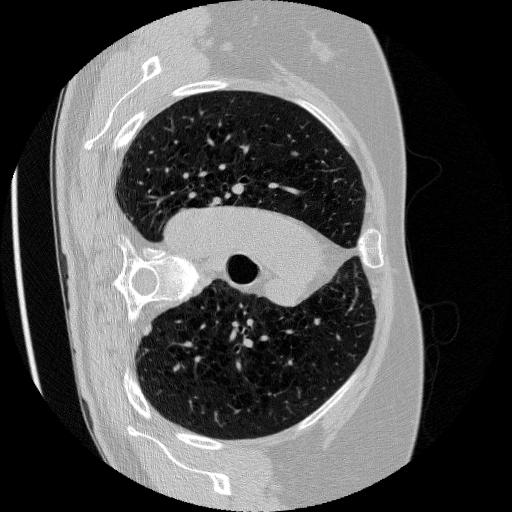nodule: (142, 324, 158, 340)
